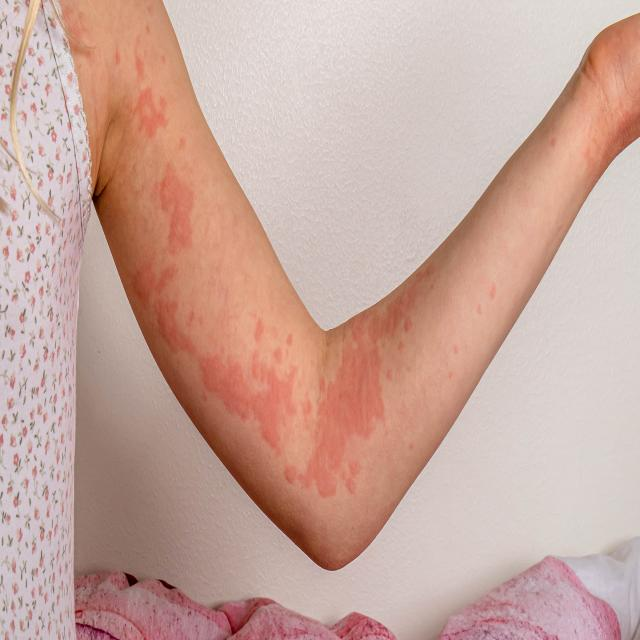hives: (56, 24, 415, 546)
